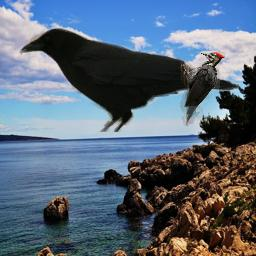Crow: (13, 22, 239, 135)
Woodpecker: (180, 52, 225, 126)
